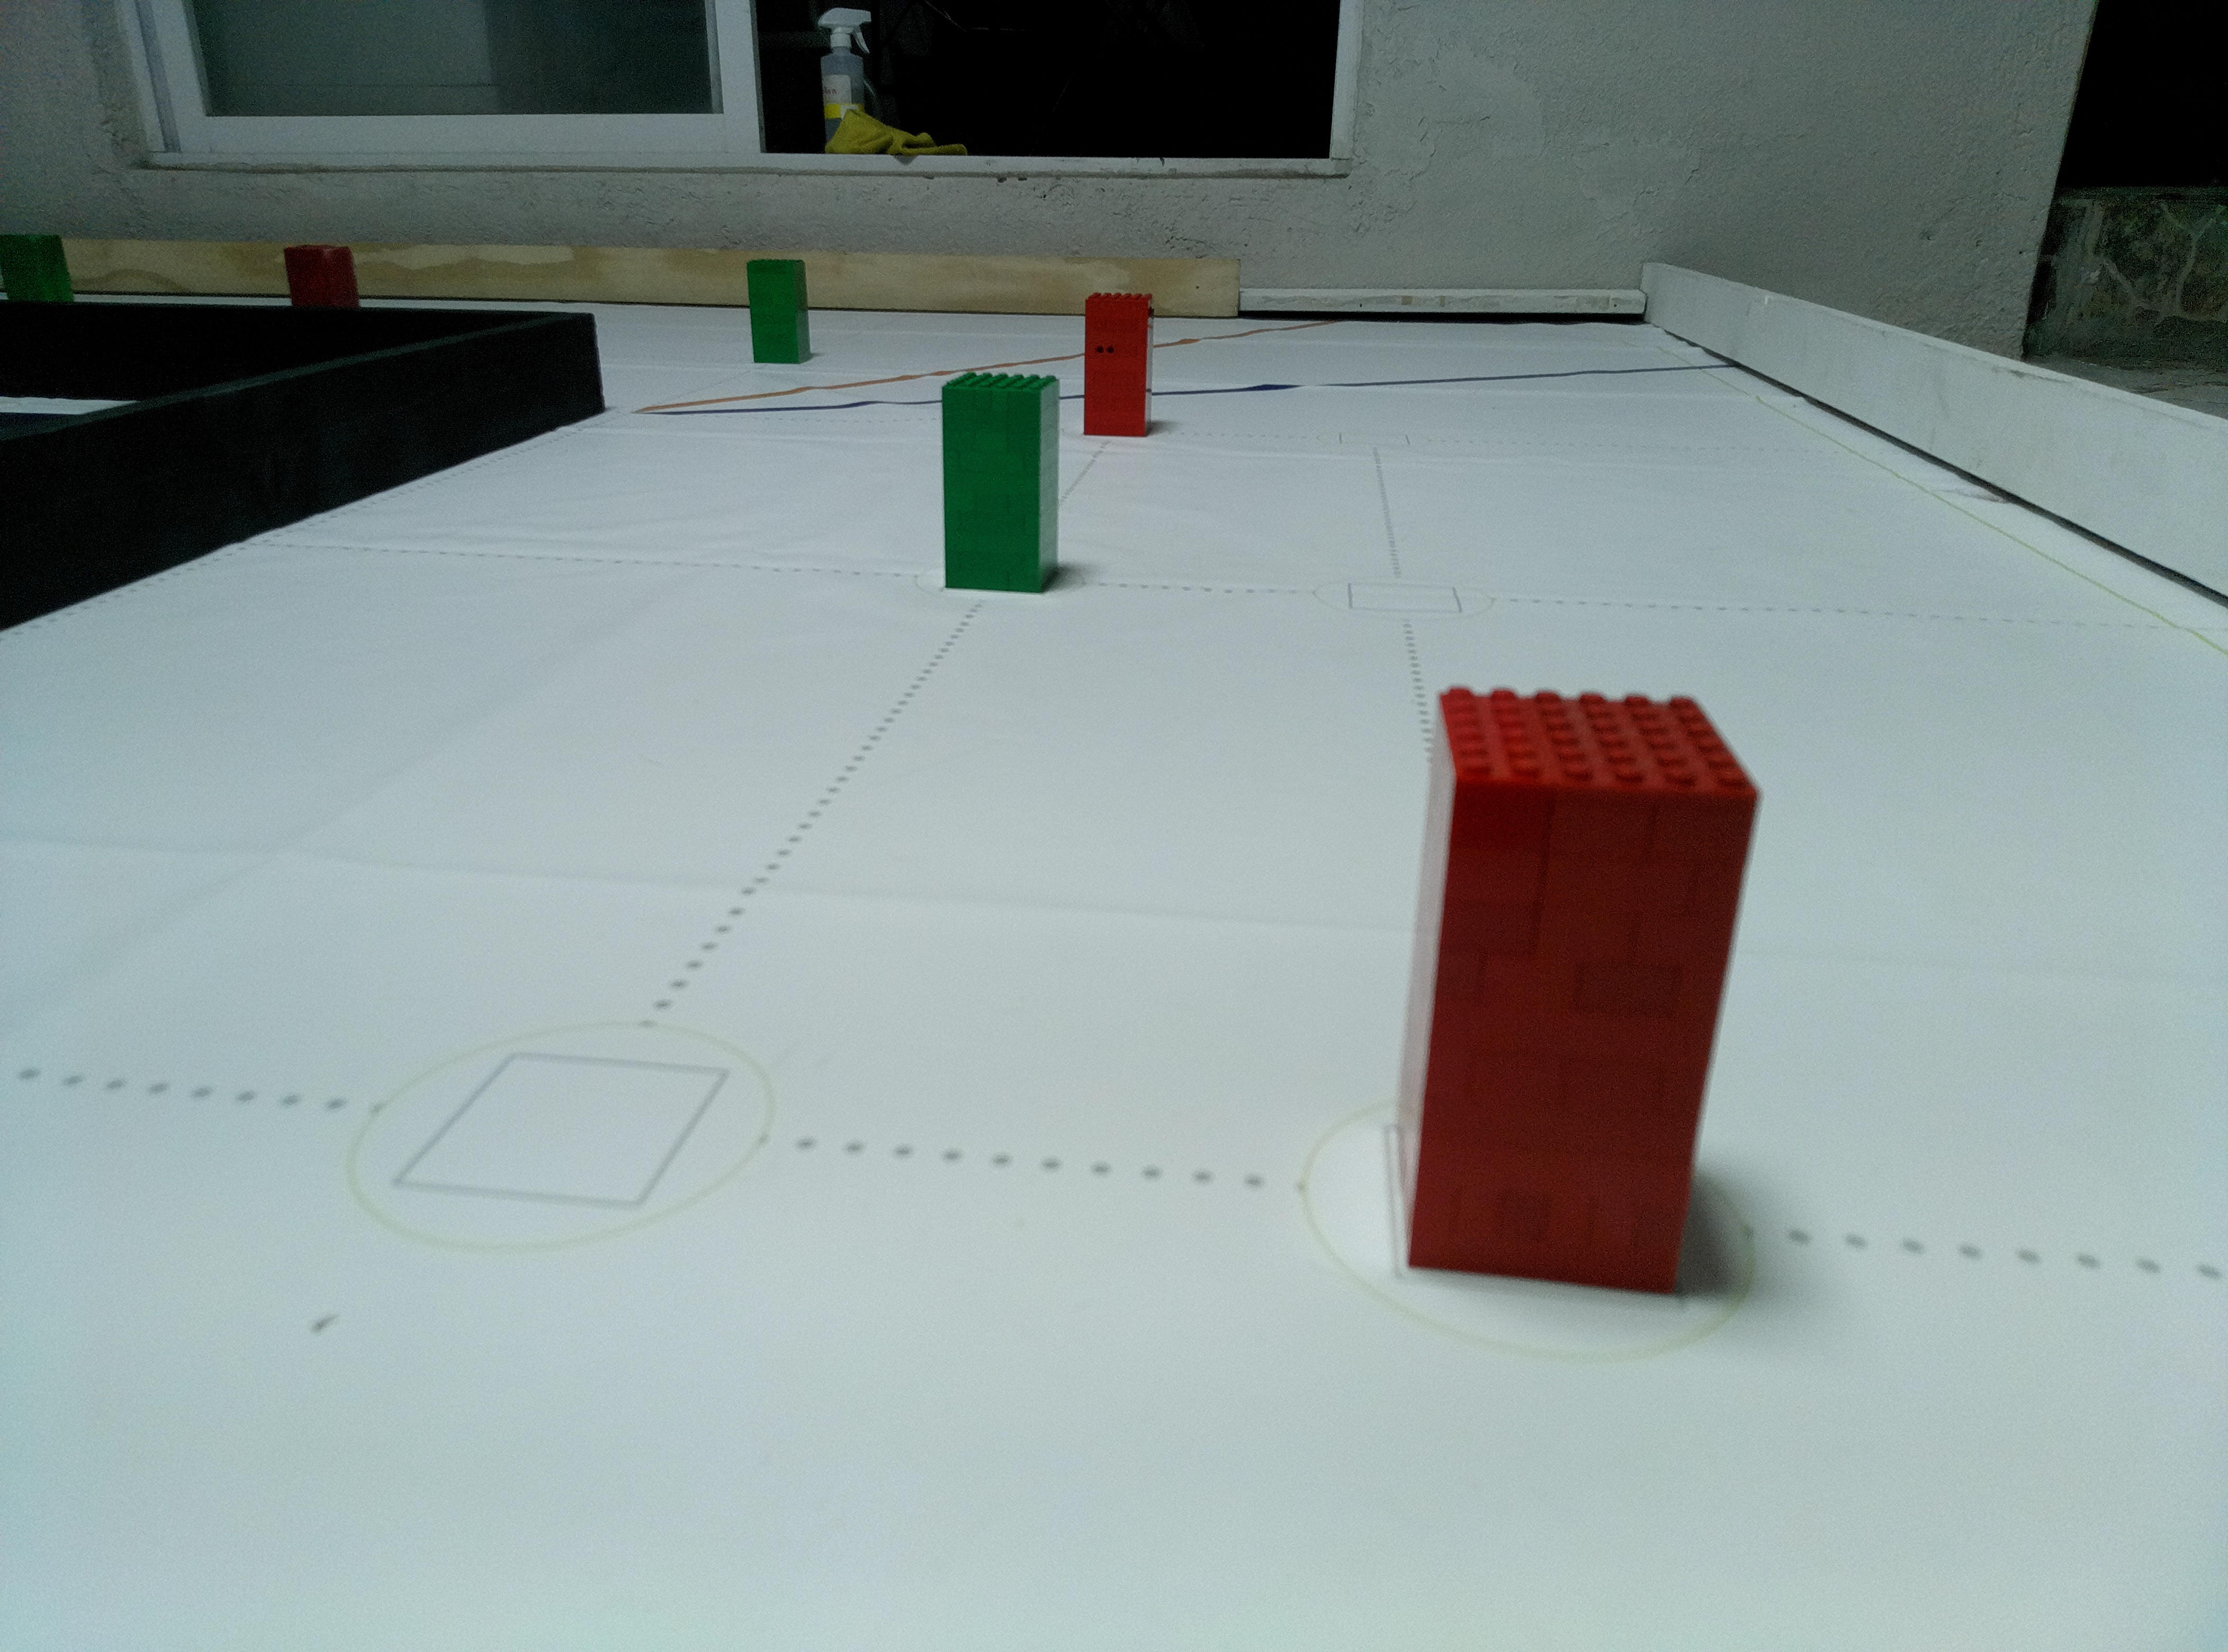greenbox: (937, 373, 1062, 593), (743, 257, 814, 366)
redbox: (1386, 689, 1765, 1296), (1081, 292, 1156, 439), (281, 245, 364, 309)
